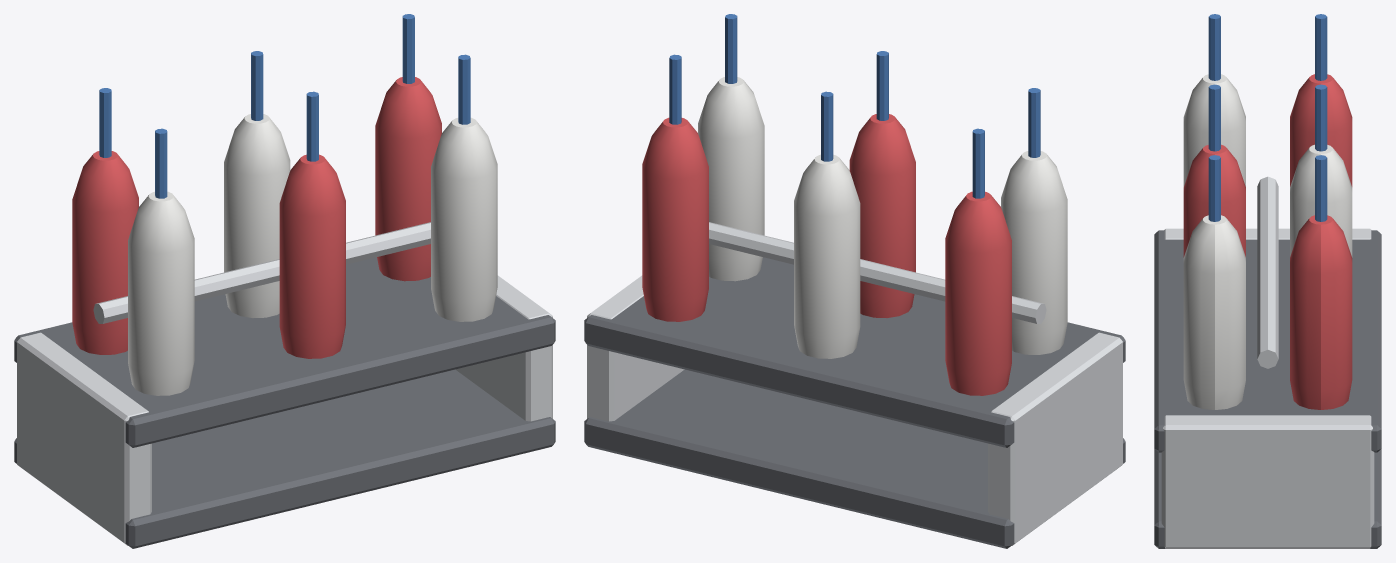
File: ice-hockey-arena-and-locker-room-water-bottle-rack-d725dfc5__33732.glb
The picture shows the model from 3 angles, left to right: view 1: azimuth 30°, elevation 25°; view 2: azimuth 150°, elevation 25°; view 3: azimuth 270°, elevation 25°; orthographic projection. The views are drawn at different scales.
Visible parts, largest first — view 1: water-bottle-rack; view 2: water-bottle-rack; view 3: water-bottle-rack.
Boxes of the visible parts, <box> form: water-bottle-rack: <box>14,14,555,548</box>; water-bottle-rack: <box>584,14,1125,548</box>; water-bottle-rack: <box>1154,14,1381,548</box>.
Bounding box in the file's own units: 0.6224 × 0.53 × 0.3.
